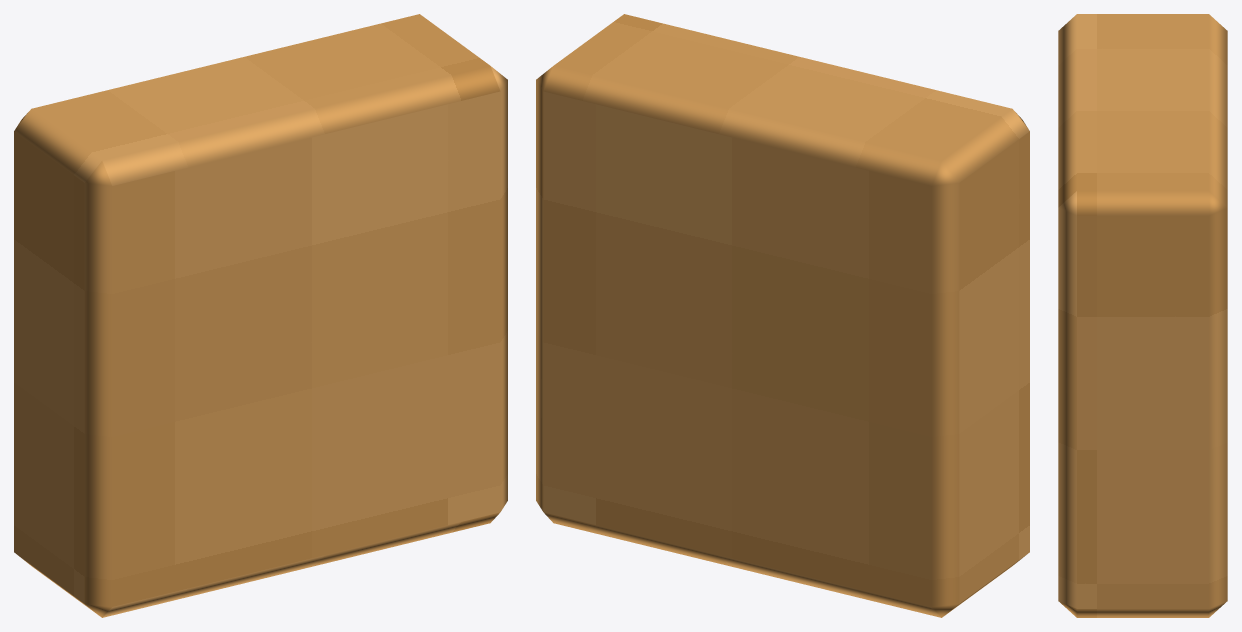
The model's file is Corner-peg-1.glb.
The picture shows the model from 3 angles, left to right: view 1: azimuth 30°, elevation 25°; view 2: azimuth 150°, elevation 25°; view 3: azimuth 270°, elevation 25°; orthographic projection. The views are drawn at different scales.
Visible parts, largest first — view 1: Corner-peg-1; view 2: Corner-peg-1; view 3: Corner-peg-1.
Boxes of the visible parts, <box> form: Corner-peg-1: <box>14,14,507,617</box>; Corner-peg-1: <box>536,14,1029,617</box>; Corner-peg-1: <box>1058,14,1227,617</box>.
Bounding box in the file's own units: 0.121 × 0.125 × 0.045.
Materials: 1 (1 with a texture image).
